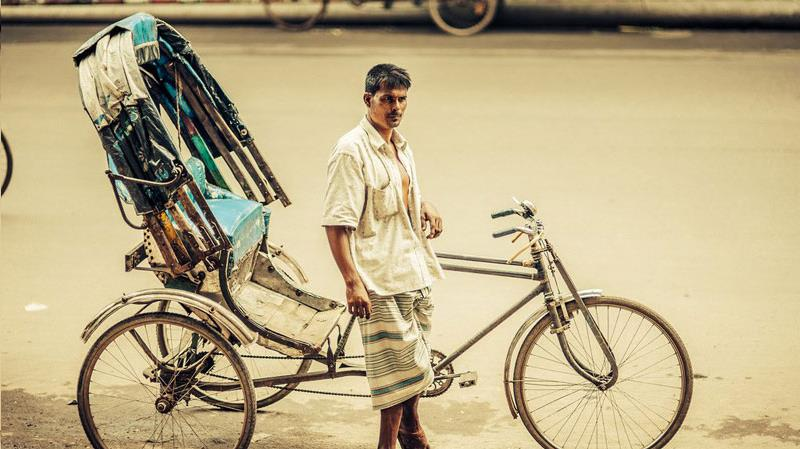Rickshaw: (60, 15, 692, 443)
